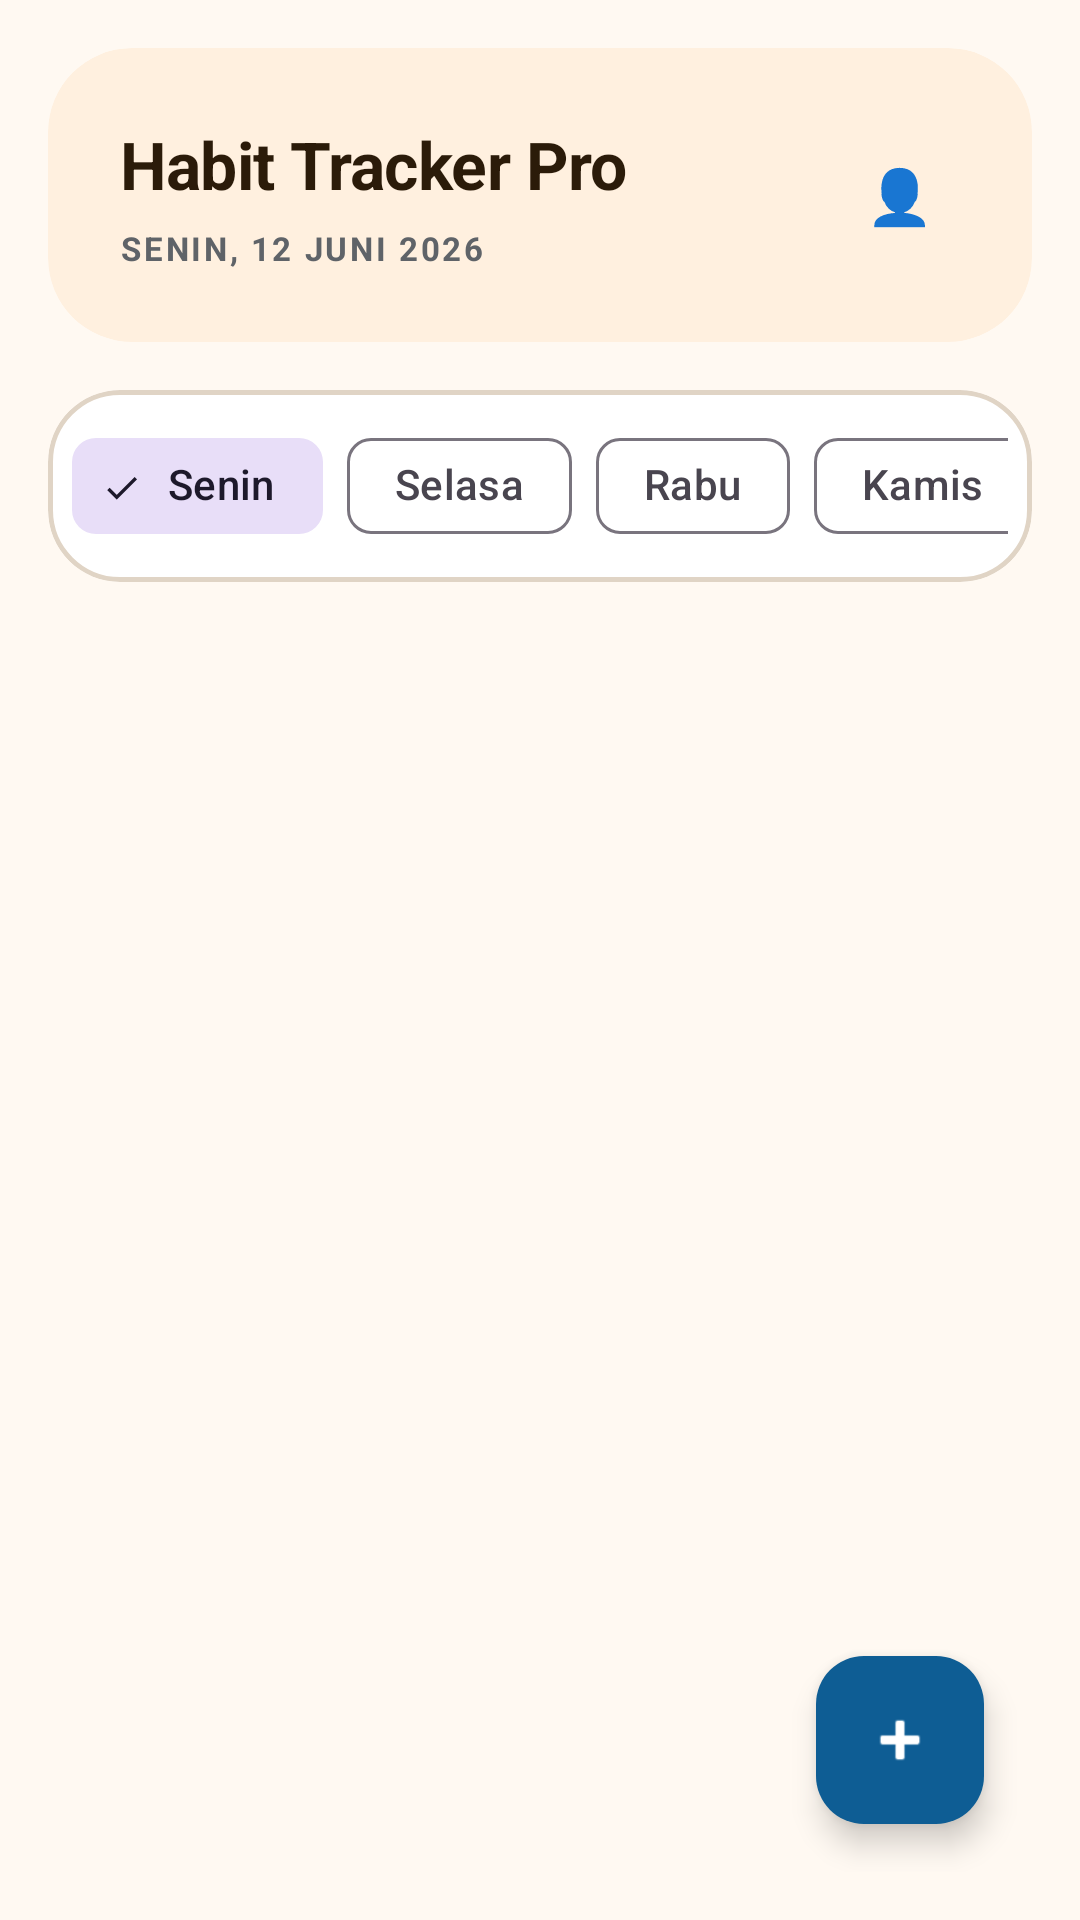

Icon bounding boxes for this 1080px×1920px phone screenshot, format {"x1": x1, "y1": y1, "x2": x2, "y2": y2}:
Tambah Habit Baru: {"x1": 816, "y1": 1656, "x2": 984, "y2": 1824}
